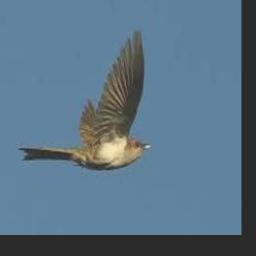Cuckoo: (17, 28, 151, 169)
